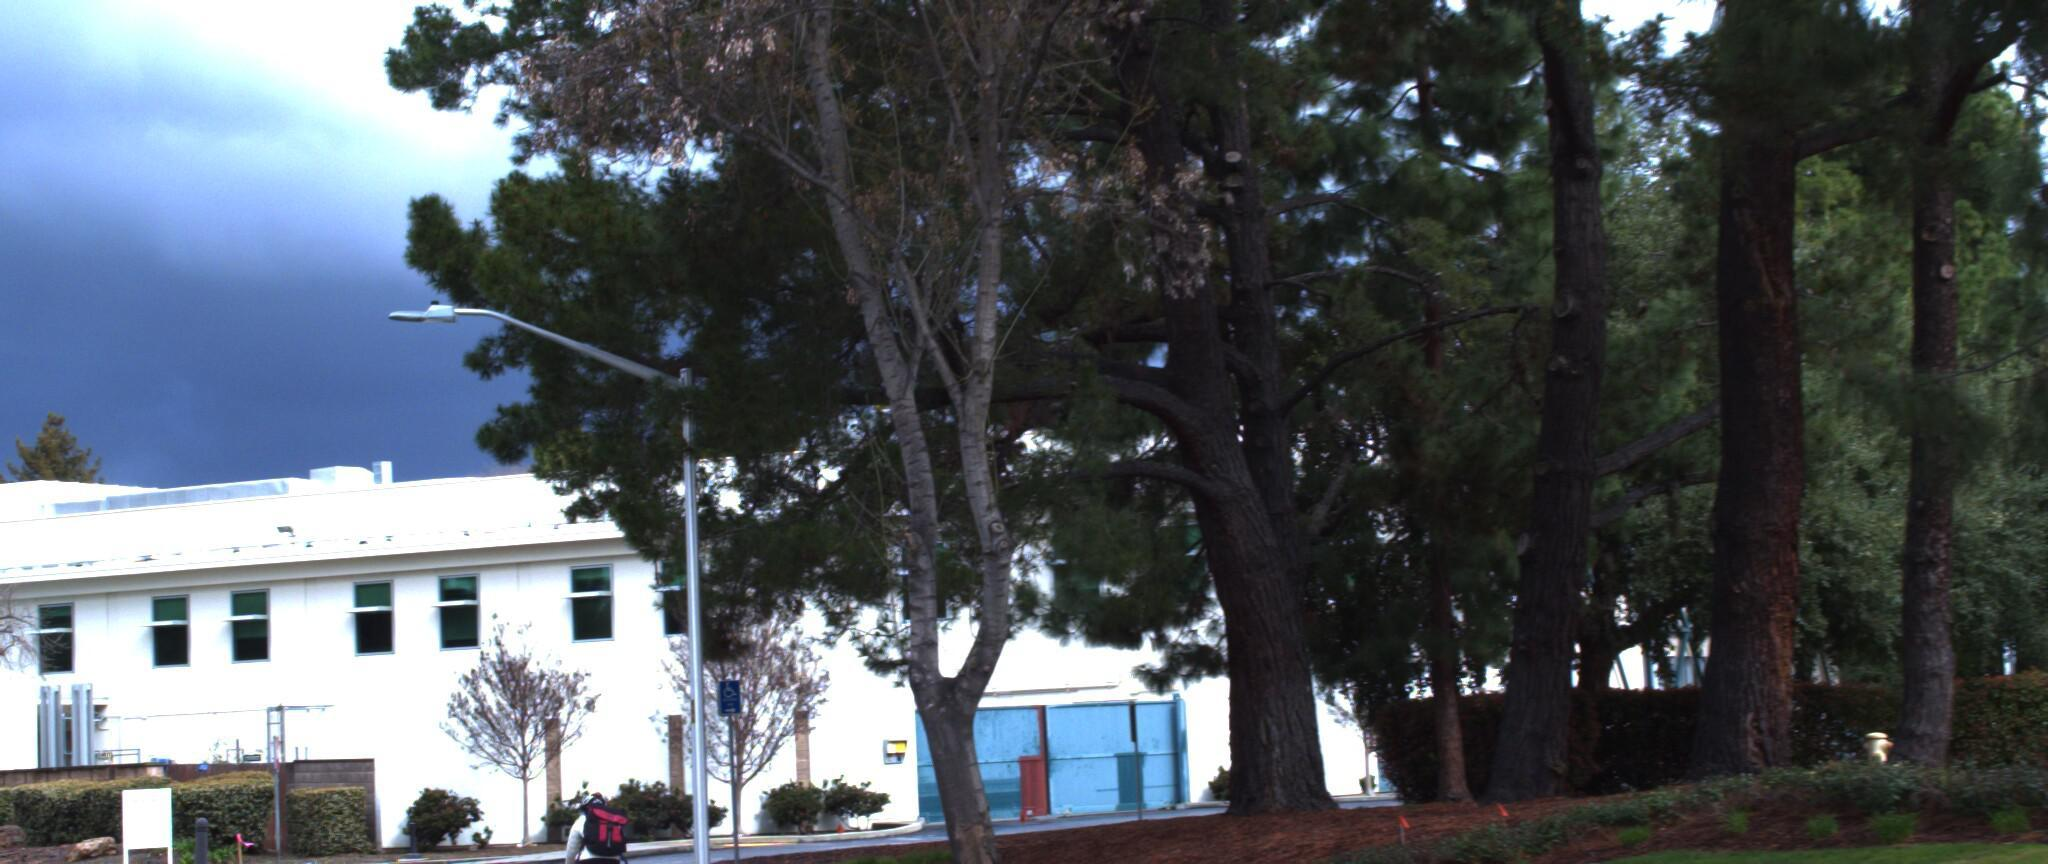bicycle: (525, 783, 666, 864)
